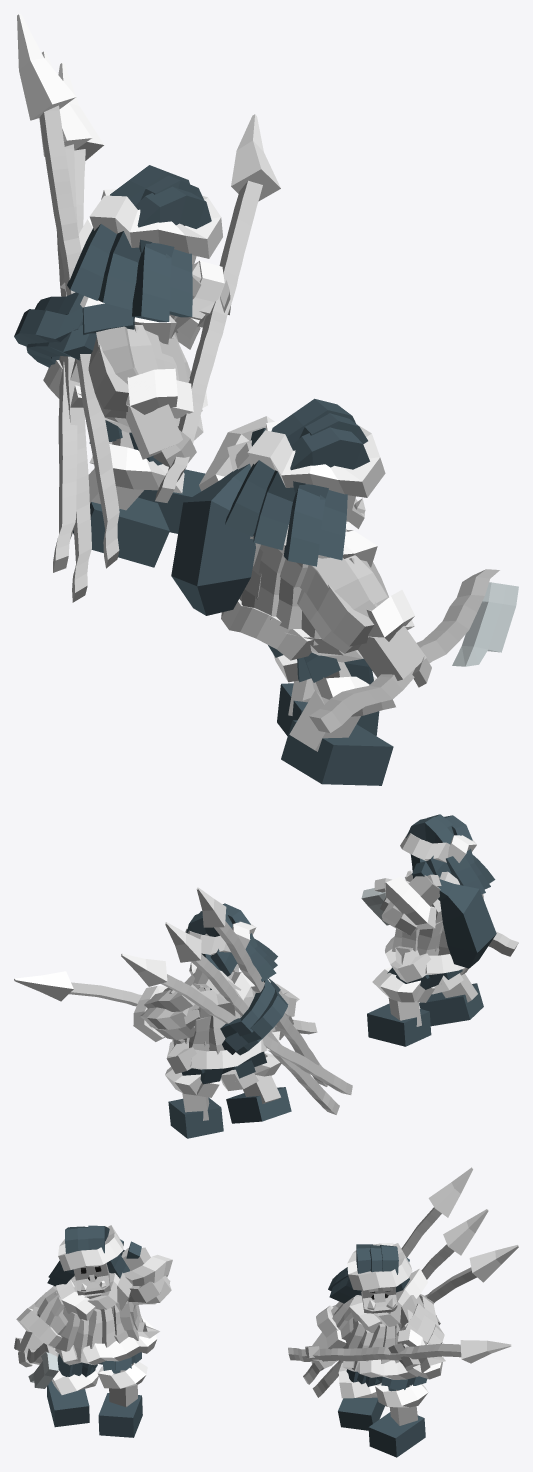
Rendered from orc.obj.
The picture shows the model from 3 angles, top to bottom: view 1: azimuth 30°, elevation 25°; view 2: azimuth 150°, elevation 25°; view 3: azimuth 270°, elevation 25°; orthographic projection. The views are drawn at different scales.
Parts seen in each view (by area): view 1: group1035286670, group1449280049, group1538210101, group1141910979, group1636462202, group686782948, group290847162, group1407598286, group111647882, group310894337, group680404535, group671947490 (+13 smaller); view 2: group1035286670, group1636462202, group1141910979, group1449280049, group562178585, group290847162, group151731964, group1722377973, group1538210101, group586260871, group671947490, group60297273 (+15 smaller); view 3: group1035286670, group1538210101, group1141910979, group562178585, group1449280049, group1636462202, group686782948, group290847162, group8723185, group1763205687, group1062360875, group671947490 (+12 smaller).
Part boxes in pixels (x1,y1,x2,y2): group1035286670: (171,398,518,785); group1449280049: (17,14,119,568); group1538210101: (155,180,262,502); group1141910979: (39,51,91,602); group1636462202: (53,62,103,572); group686782948: (89,189,222,258); group290847162: (73,497,169,567); group1407598286: (132,242,174,322); group111647882: (126,368,193,418); group310894337: (135,186,211,252); group680404535: (98,231,141,309); group671947490: (231,114,280,201); group1035286670: (361,814,518,1046); group1636462202: (121,953,352,1094); group1141910979: (165,922,339,1114); group1449280049: (196,887,327,1086); group562178585: (168,1097,223,1138); group290847162: (226,1087,291,1123); group151731964: (222,986,287,1054); group1722377973: (190,1031,280,1069); group1538210101: (69,982,317,1034); group586260871: (220,979,274,1038); group671947490: (14,971,73,1001); group60297273: (221,1052,281,1090); group1035286670: (14,1225,172,1437); group1538210101: (288,1343,461,1361); group1141910979: (312,1209,488,1397); group562178585: (368,1412,425,1457); group1449280049: (303,1167,473,1384); group1636462202: (311,1245,518,1370); group686782948: (347,1242,412,1290); group290847162: (338,1397,384,1430); group8723185: (342,1356,443,1379); group1763205687: (375,1383,428,1407); group1062360875: (374,1268,427,1326); group671947490: (460,1340,511,1363).
Bounding box in the file's own units: 1.06 × 1.14 × 1.97.
